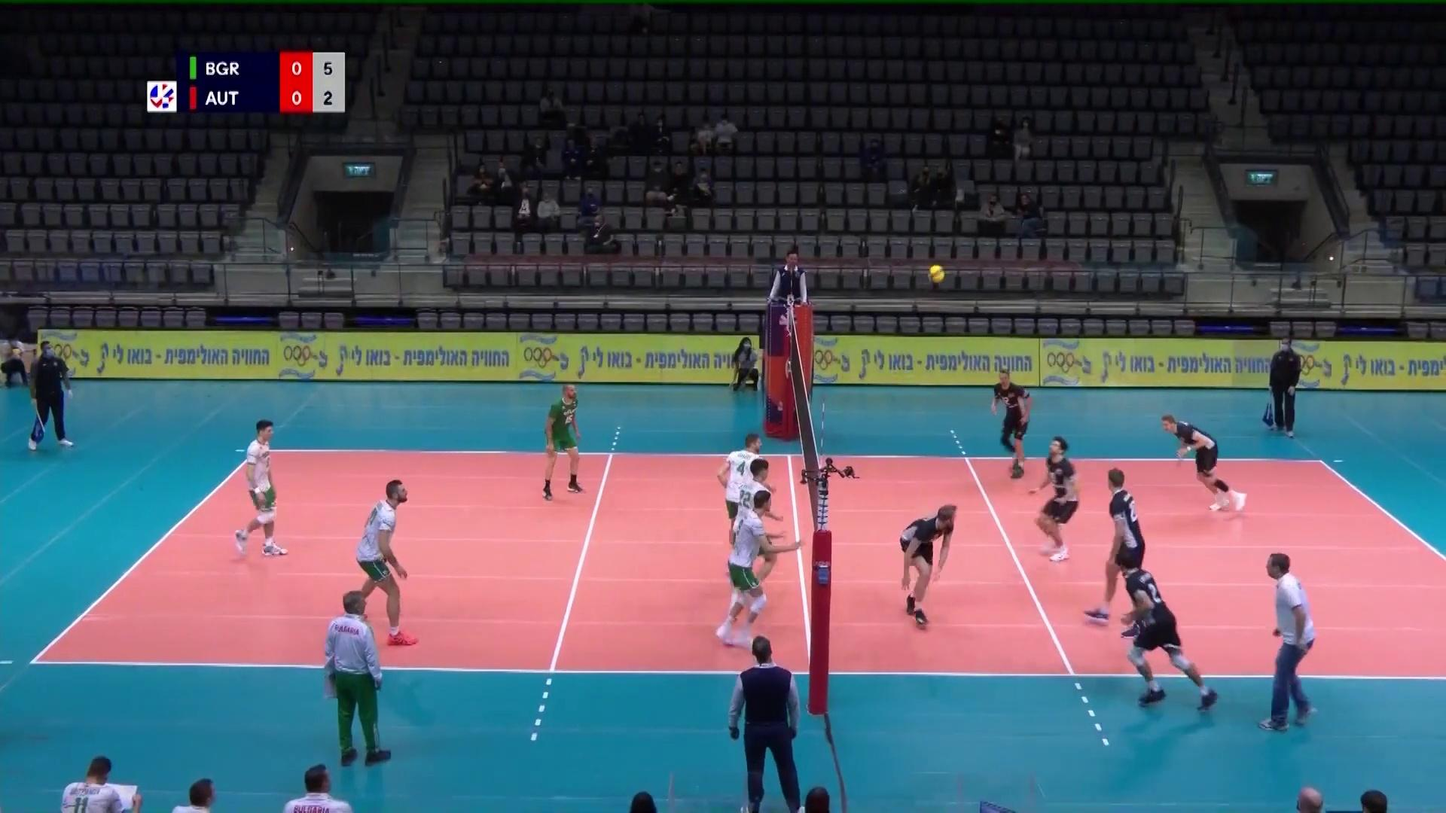ball: (929, 264, 945, 283)
